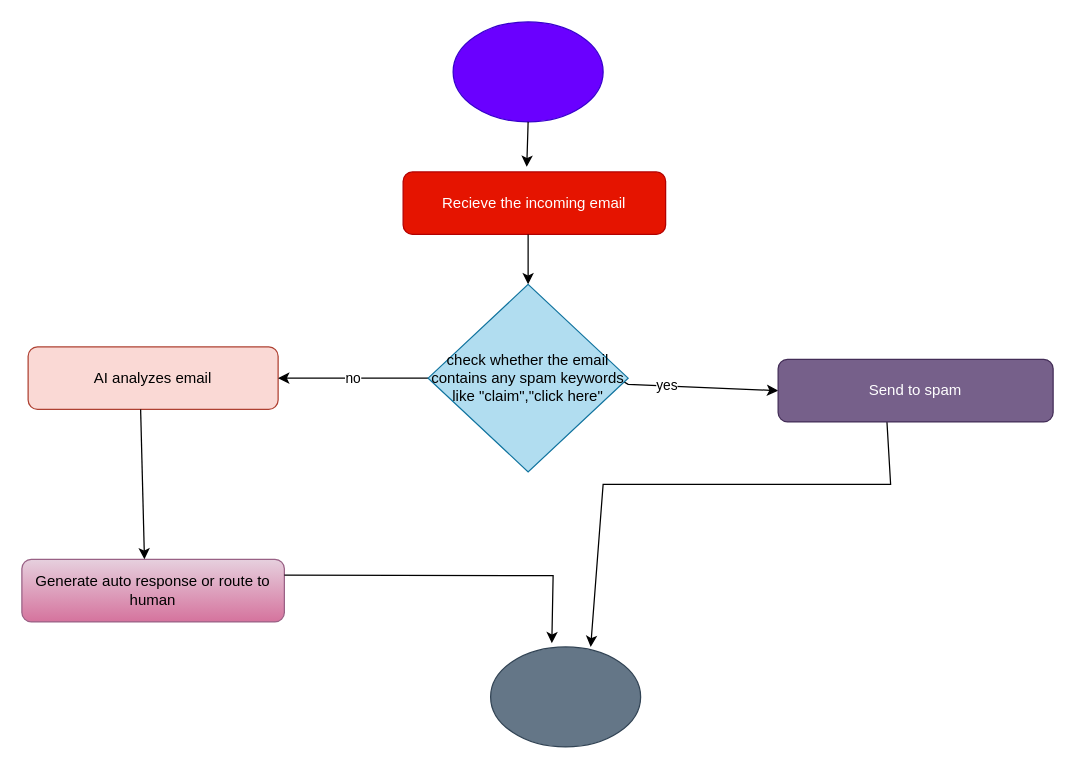
This 1075x769 diagram has some shape labels left out. Each missing label, with the centre of its shape:
"End" belongs at point 565,696.
"Start" belongs at point 527,71.
